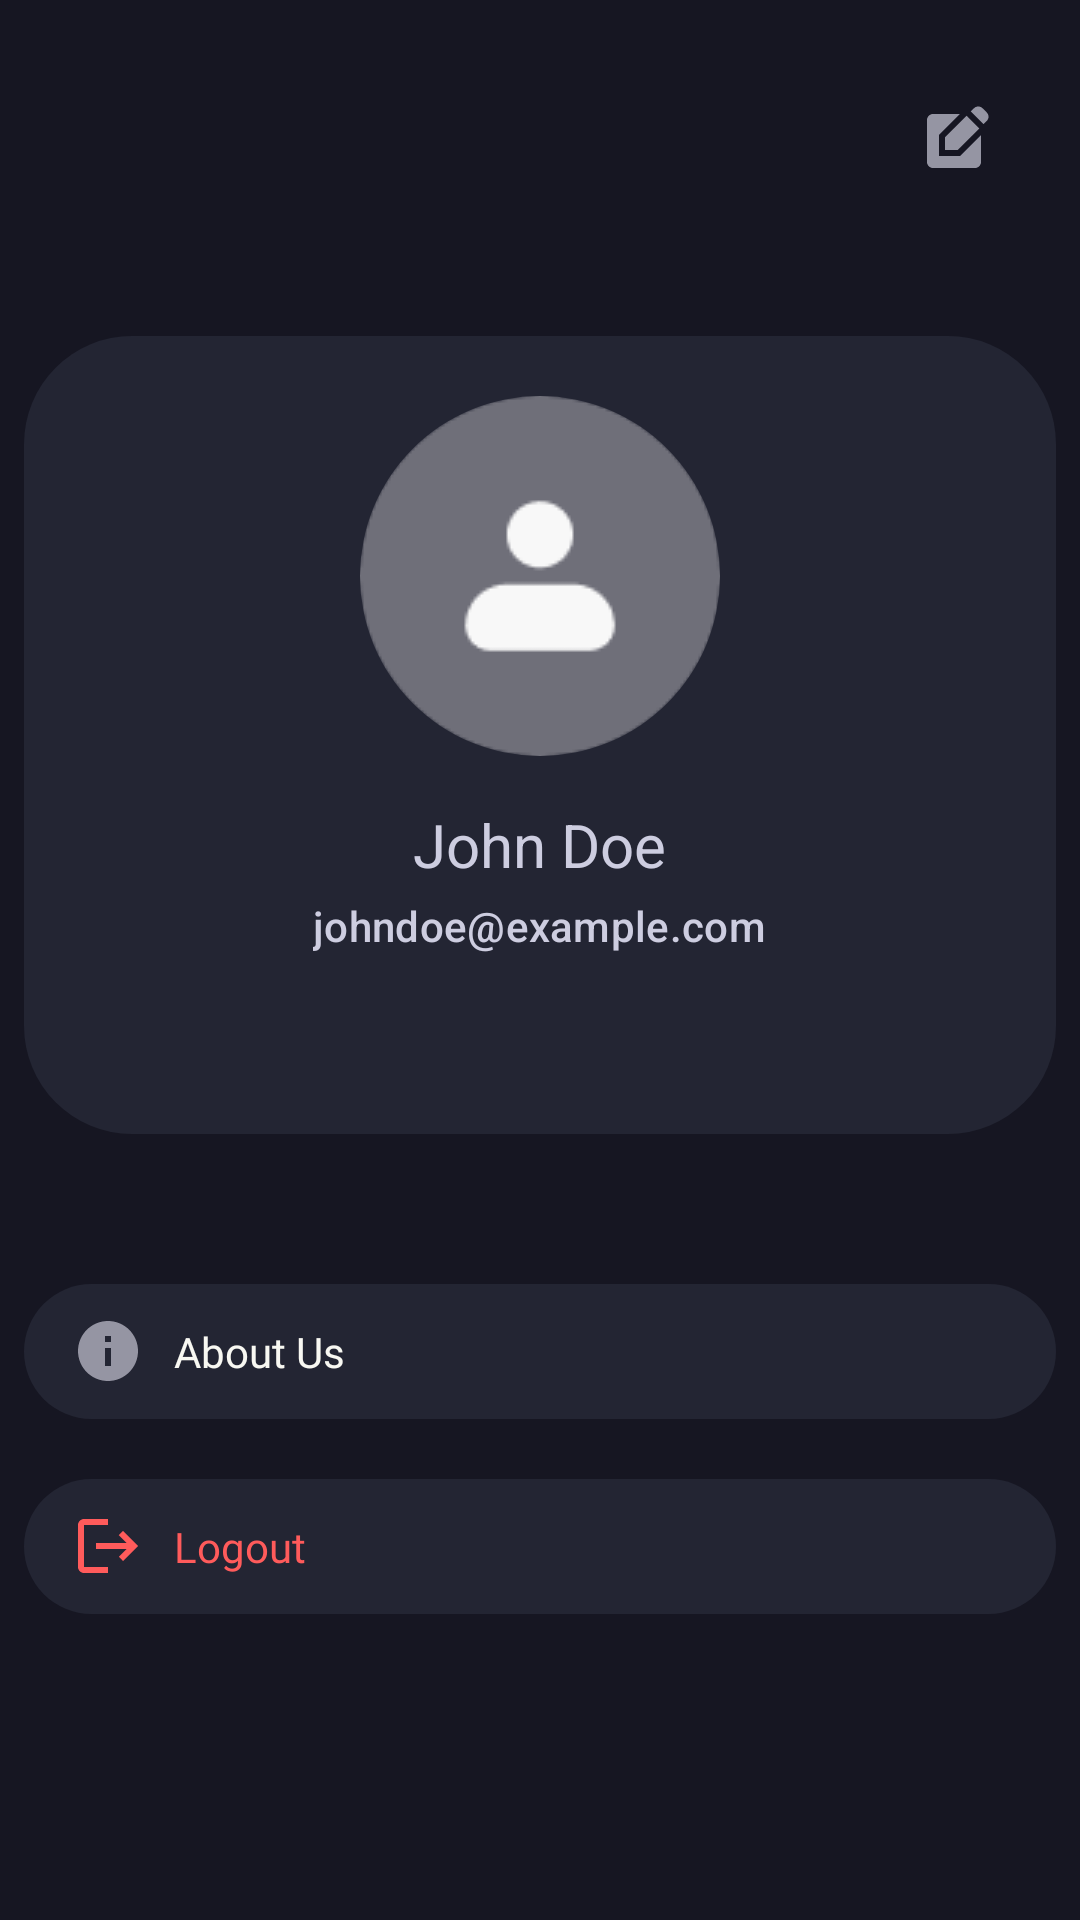

Icons on this 1080*1920 Android screen, each with the point to tap as [x,y]:
edit main: [958,137]
info: [108,1351]
